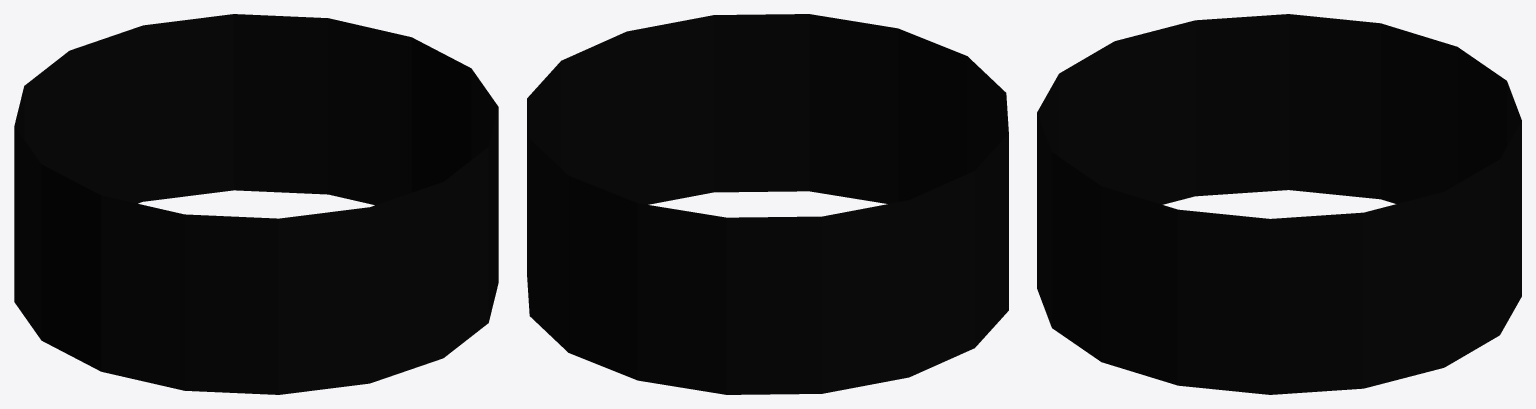
The model's file is Vorhang2.glb.
3 views of the same model, side by side, from view 1: azimuth 30°, elevation 25°; view 2: azimuth 150°, elevation 25°; view 3: azimuth 270°, elevation 25° (orthographic).
Visible parts, largest first — view 1: node_id4; view 2: node_id4; view 3: node_id4.
Boxes of the visible parts, box(x1,y1,x2,y2) form: node_id4: box(14, 14, 498, 394); node_id4: box(527, 14, 1008, 394); node_id4: box(1037, 14, 1521, 394).
Size of the model in its own units: 0.5116 by 0.205 by 0.5116.
Materials: 1 (1 with a texture image).
